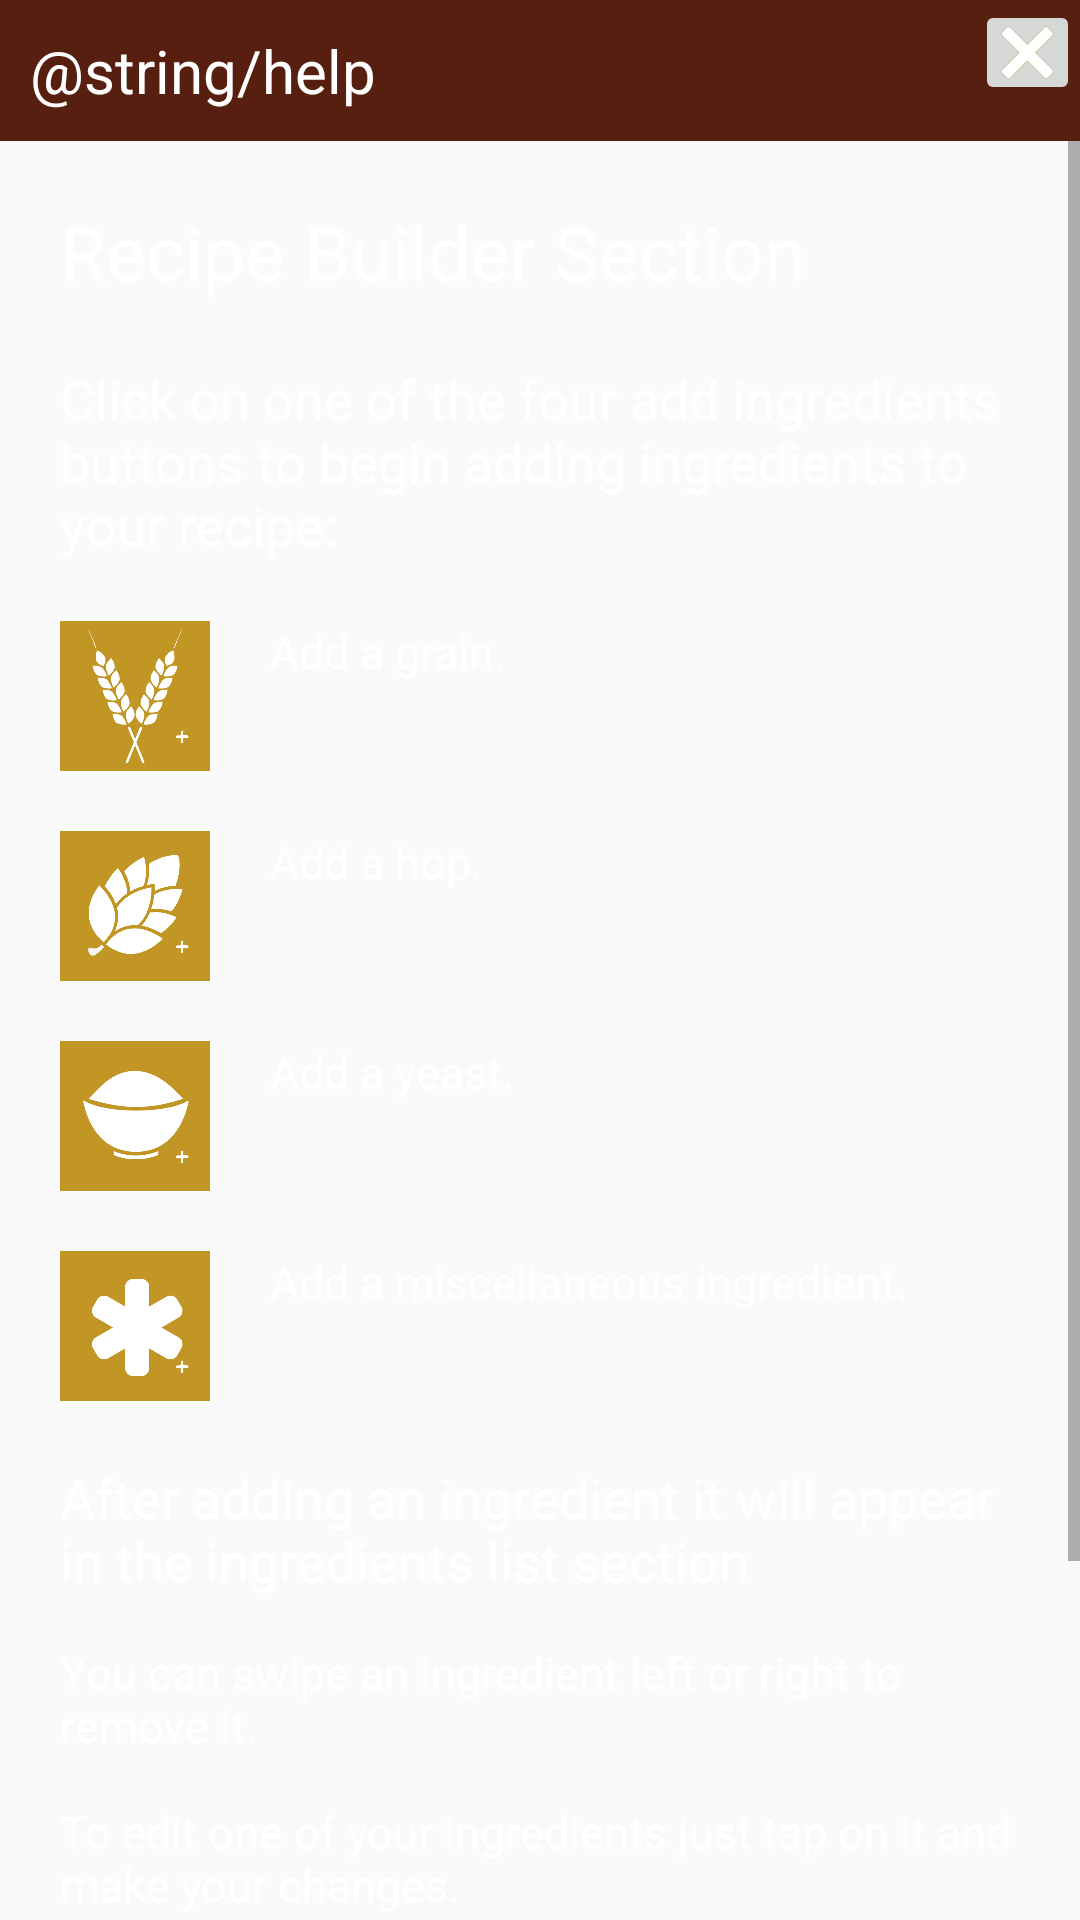

Icons on this 1080 x 1920 Android screen, each with its box as box=[x1, y1, x2, y2]:
close: box=[987, 18, 1068, 87]
